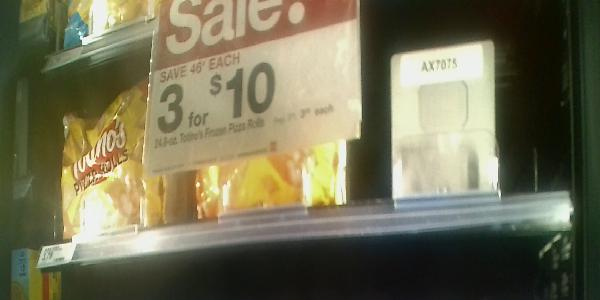icecream: (179, 75, 361, 225), (53, 89, 176, 248)
